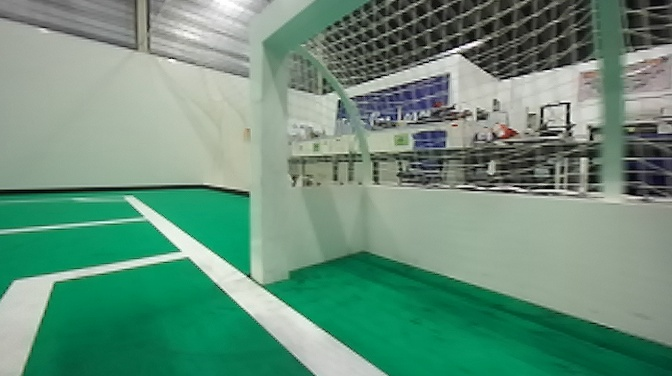goalpost: (245, 25, 291, 286)
